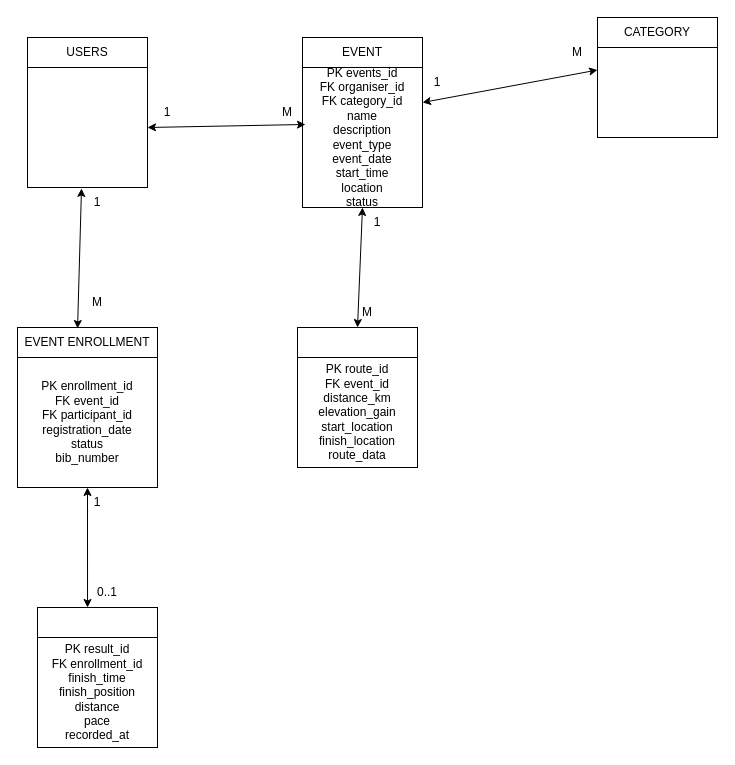
The diagram is 735 pixels wide and 765 high, and some of its shapes have lost their labels. Each missing label, with the box of its shape:
PK category_id name description: (596, 46, 718, 138)
PK user_id first_name last_name email(unique) password_hash role created_at: (26, 66, 148, 188)
RESULT: (36, 606, 158, 638)
ROUTE: (296, 326, 418, 358)
